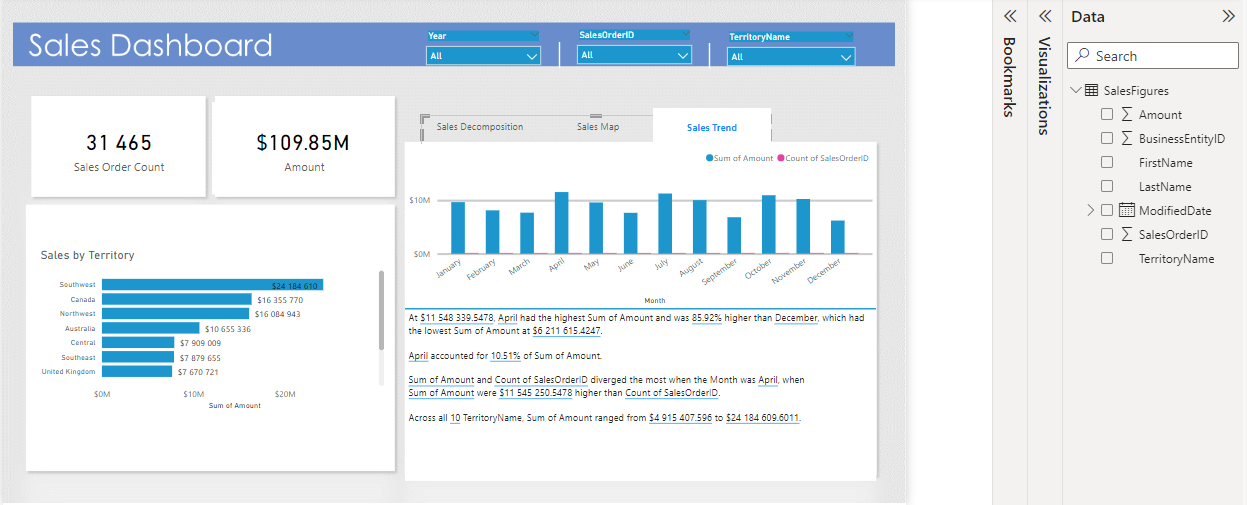

What the dashboard file says about the page in this screenshot:
{"tool":"powerbi","page":{"name":"Page 1","canvas":[1280,720],"ordinal":0},"visuals":[{"type":"card","fields":{"Values":["CountNonNull(Sales vSalesFigures.SalesOrderID)"]},"box":[44.6,149.1,241,131],"z":0},{"type":"actionButton","title":" Bttn : Sales Decomposition","box":[592.7,170.3,167.5,53.8],"z":0,"group":"g1"},{"type":"card","fields":{"Values":["Sum(Sales vSalesFigures.Amount)"]},"box":[296.7,149.1,257.7,131],"z":1000},{"type":"actionButton","title":"Bttn : Sales Map","box":[760.2,170.3,167.5,53.8],"z":1000,"group":"g1"},{"type":"actionButton","title":"Bttn : Sales Trend","box":[921,158,167.5,52],"z":2000,"group":"g2"},{"type":"clusteredBarChart","fields":{"Category":["Sales vSalesFigures.TerritoryName"],"Y":["Sum(Sales vSalesFigures.Amount)"]},"box":[47.6,349.9,497.5,239.2],"z":2000},{"type":"slicer","title":"Slicer Year","fields":{"Values":["Sales vSalesFigures.ModifiedDate.Variation.Date Hierarchy.Year"]},"box":[590.3,42.8,183.3,57.1],"z":3000},{"type":"slicer","title":"Slicer SalesOrderID","fields":{"Values":["Sales vSalesFigures.SalesOrderID"]},"box":[803.3,41.7,183.3,59.5],"z":4000},{"type":"slicer","title":"Slicer Territory Name","fields":{"Values":["Sales vSalesFigures.TerritoryName"]},"box":[1016.3,44,202.3,57.1],"z":5000},{"type":"shape","title":"Shape Line","box":[986.6,65.5,29.8,35.7],"z":6000},{"type":"shape","title":"Shape Line","box":[773.6,63.1,29.8,36.9],"z":7000},{"type":"group","id":"g1","title":"Buttons Inactive","box":[592.7,167.8,496.3,55.9],"z":8000},{"type":"group","id":"g2","title":"Buttons Active","box":[591,158,497.5,53.8],"z":9000},{"type":"lineClusteredColumnComboChart","fields":{"Category":["Sales vSalesFigures.ModifiedDate.Variation.Date Hierarchy.Month"],"Y":["Sum(Sales vSalesFigures.Amount)","CountNonNull(Sales vSalesFigures.SalesOrderID)"]},"box":[570,208.8,667.5,232.5],"z":13000},{"type":"shape","box":[570,446.2,667.5,16.2],"z":14000},{"type":"textbox","box":[570,441.2,667.5,245],"z":15000},{"type":"shape","box":[570,280,667.5,322.5],"z":16000}]}

Visuals, with their boxes on the page's 1280x720 design canvas (x1, y1, x2, y2). These are canvas units, not pixel positions in the 1247x505 screenshot, which may show the page scaled, cropped or inside an application window:
card - CountNonNull(Sales vSalesFigures.SalesOrderID): detection(45, 149, 286, 280)
" Bttn : Sales Decomposition" actionButton: detection(593, 170, 760, 224)
card - Sum(Sales vSalesFigures.Amount): detection(297, 149, 554, 280)
"Bttn : Sales Map" actionButton: detection(760, 170, 928, 224)
"Bttn : Sales Trend" actionButton: detection(921, 158, 1088, 210)
clusteredBarChart - Sales vSalesFigures.TerritoryName x Sum(Sales vSalesFigures.Amount): detection(48, 350, 545, 589)
"Slicer Year" slicer: detection(590, 43, 774, 100)
"Slicer SalesOrderID" slicer: detection(803, 42, 987, 101)
"Slicer Territory Name" slicer: detection(1016, 44, 1219, 101)
"Shape Line" shape: detection(987, 66, 1016, 101)
"Shape Line" shape: detection(774, 63, 803, 100)
"Buttons Inactive" group: detection(593, 168, 1089, 224)
"Buttons Active" group: detection(591, 158, 1088, 212)
lineClusteredColumnComboChart - Sales vSalesFigures.ModifiedDate.Variation.Date Hierarchy.Month x Sum(Sales vSalesFigures.Amount): detection(570, 209, 1238, 441)
shape: detection(570, 446, 1238, 462)
textbox: detection(570, 441, 1238, 686)
shape: detection(570, 280, 1238, 602)
